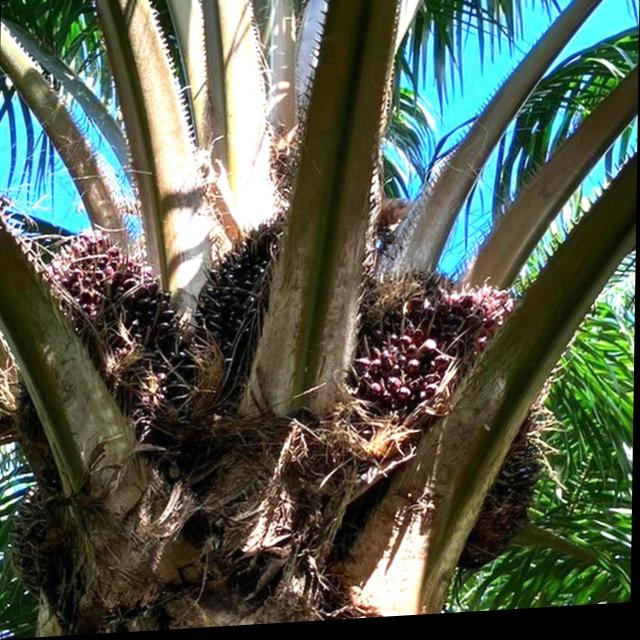ripe: (336, 274, 554, 592), (28, 214, 192, 449)
